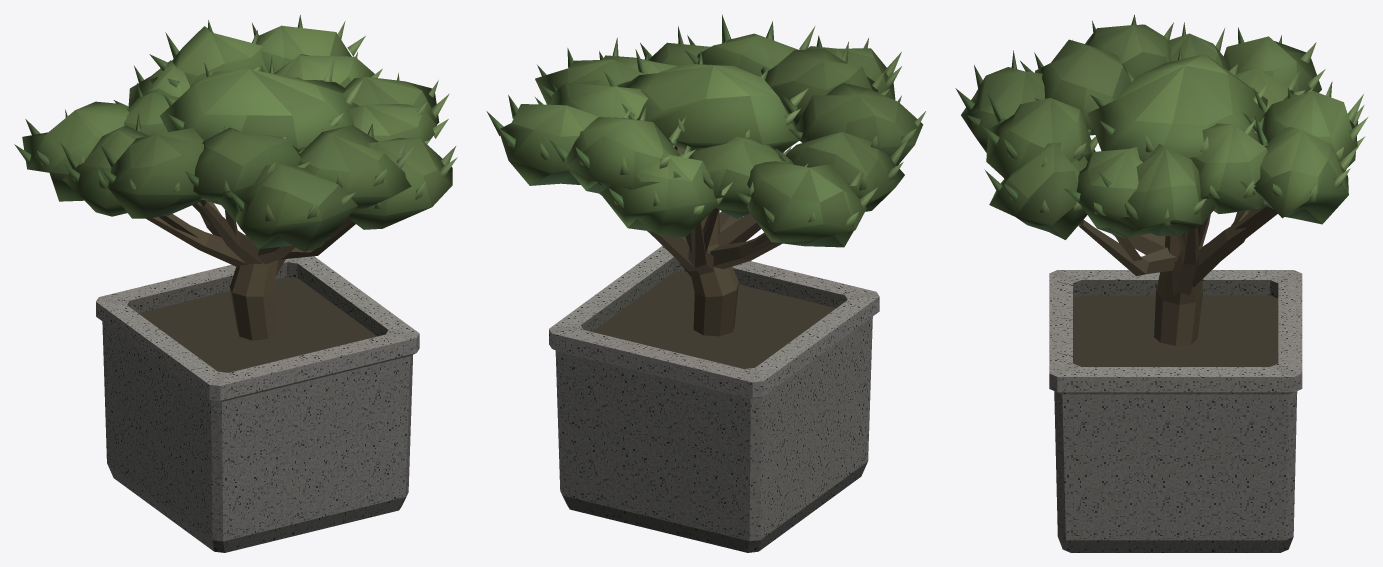
Rendered from planter.glb.
The picture shows the model from 3 angles, left to right: view 1: azimuth 30°, elevation 25°; view 2: azimuth 150°, elevation 25°; view 3: azimuth 270°, elevation 25°; orthographic projection. The views are drawn at different scales.
Visible parts, largest first — view 1: Surface; view 2: Surface; view 3: Surface.
Part boxes in pixels (<box>): Surface: <box>14,15,457,552</box>; Surface: <box>486,14,925,552</box>; Surface: <box>955,14,1367,552</box>.
Bounding box in the file's own units: 1.52 × 1.65 × 1.41.
Materials: 1 (1 with a texture image).
